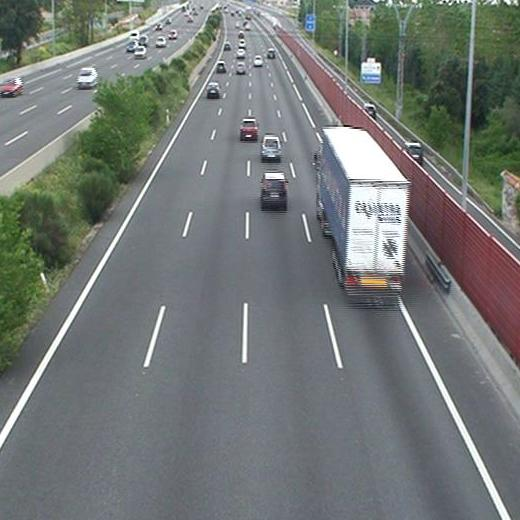car: (261, 171, 287, 204), (261, 137, 282, 157), (240, 119, 258, 139), (207, 83, 220, 96), (235, 62, 247, 75), (253, 56, 263, 66), (267, 48, 276, 58), (216, 62, 226, 71), (237, 49, 246, 58), (223, 42, 230, 50)
truck: (316, 127, 408, 290)
